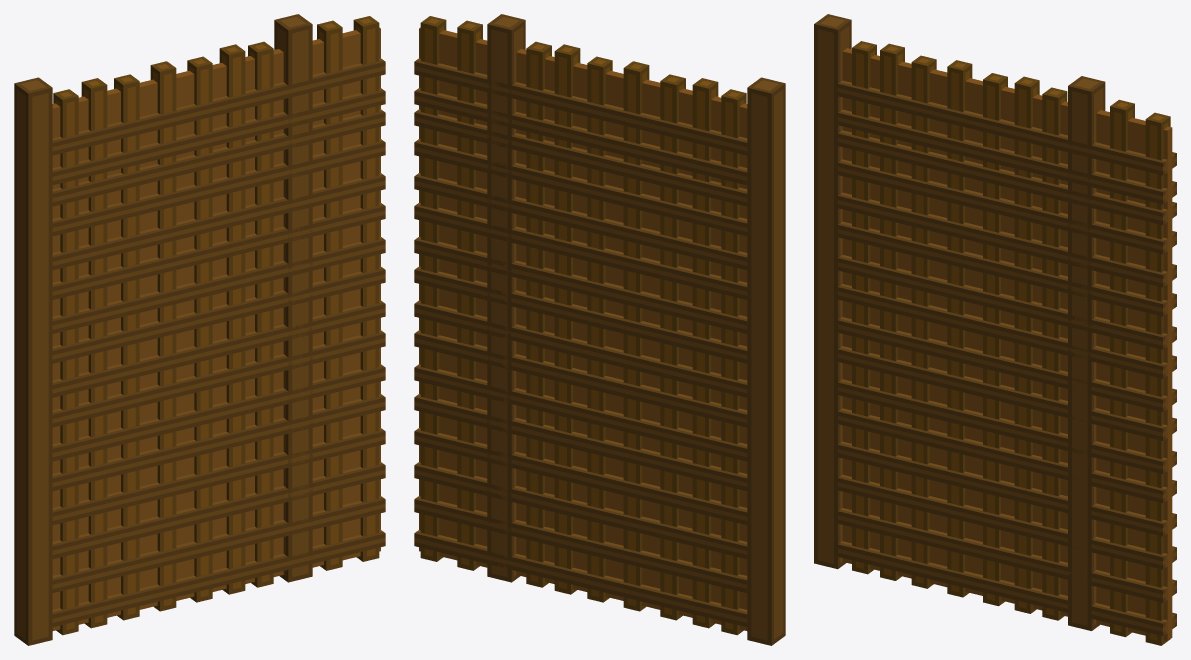
File: Wall.fbx
3 renders of one model, left to right at view 1: azimuth 30°, elevation 25°; view 2: azimuth 150°, elevation 25°; view 3: azimuth 330°, elevation 25°, orthographic. The views are drawn at different scales.
Visible parts, largest first — view 1: Wall Body, Wall Connector, Left Wall Pole, Right Wall Pole; view 2: Wall Body, Wall Connector, Left Wall Pole, Right Wall Pole; view 3: Wall Body, Wall Connector, Left Wall Pole, Right Wall Pole.
Part boxes in pixels (left/top/right/bottom): Wall Body: left=52, top=41, right=288, bottom=635; Wall Connector: left=288, top=16, right=385, bottom=570; Left Wall Pole: left=14, top=77, right=52, bottom=645; Right Wall Pole: left=274, top=14, right=312, bottom=582; Wall Body: left=511, top=41, right=747, bottom=635; Wall Connector: left=414, top=16, right=511, bottom=570; Left Wall Pole: left=747, top=77, right=785, bottom=645; Right Wall Pole: left=487, top=14, right=525, bottom=582; Wall Body: left=838, top=41, right=1067, bottom=620; Wall Connector: left=1068, top=99, right=1176, bottom=645; Left Wall Pole: left=814, top=14, right=851, bottom=569; Right Wall Pole: left=1068, top=76, right=1105, bottom=630.
Size of the model in its own units: 1.76 by 0.12 by 2.6.
1 material, 1 textured.
